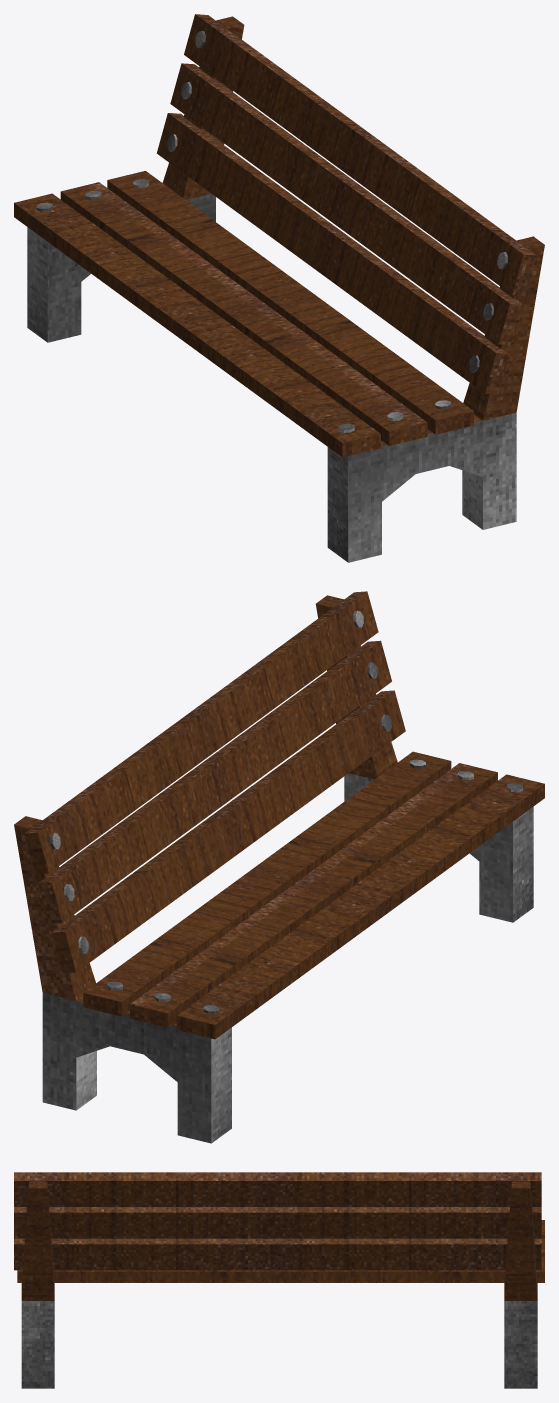
The model's file is bench.glb.
3 renders of one model, top to bottom at view 1: azimuth 30°, elevation 25°; view 2: azimuth 150°, elevation 25°; view 3: azimuth 270°, elevation 25°, orthographic. The views are drawn at different scales.
Parts seen in each view (by area): view 1: Cube; view 2: Cube; view 3: Cube.
Boxes of the visible parts, <box> form: Cube: <box>14,14,544,562</box>; Cube: <box>14,591,544,1143</box>; Cube: <box>14,1172,544,1388</box>.
Bounding box in the file's own units: 1.19 × 1.46 × 3.24.
2 materials, 2 textured.
